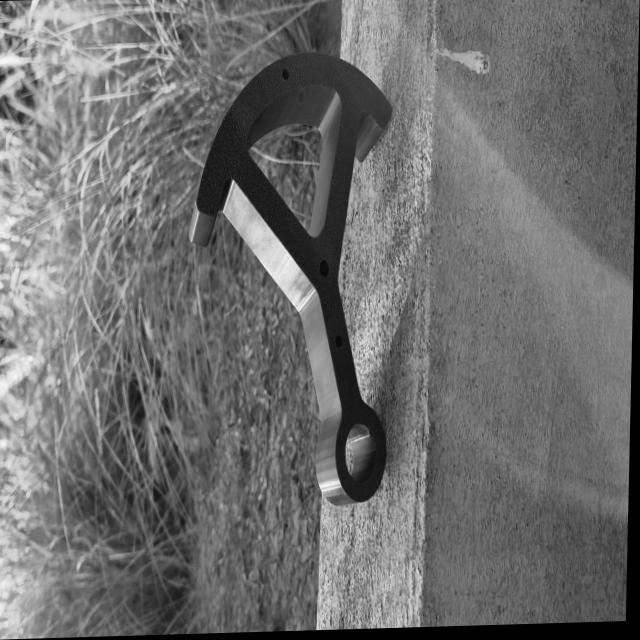haptic: (180, 44, 397, 512)
